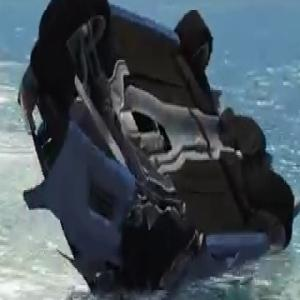critical: (12, 0, 300, 295)
